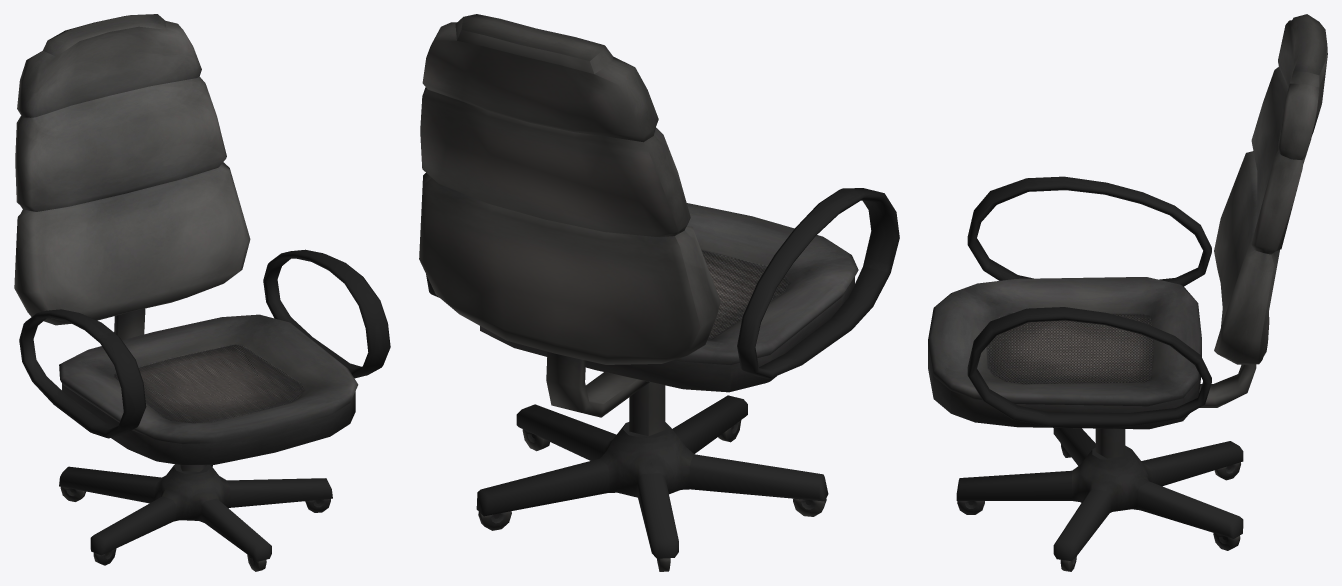
The model's file is Chair.FBX.
3 views of the same model, side by side, from view 1: azimuth 30°, elevation 25°; view 2: azimuth 150°, elevation 25°; view 3: azimuth 270°, elevation 25° (orthographic). The views are drawn at different scales.
Parts seen in each view (by area): view 1: Box002; view 2: Box002; view 3: Box002.
Part boxes in pixels (x1,y1,x2,y2): Box002: [14, 14, 390, 571]; Box002: [419, 14, 899, 571]; Box002: [928, 14, 1327, 571].
Size of the model in its own units: 276 by 428 by 327.
Materials: 1 (1 with a texture image).
